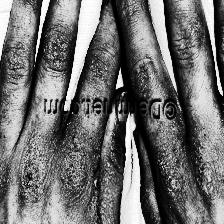Toxin: (63, 146, 107, 224), (17, 146, 43, 202), (186, 145, 214, 196), (154, 154, 180, 193)
